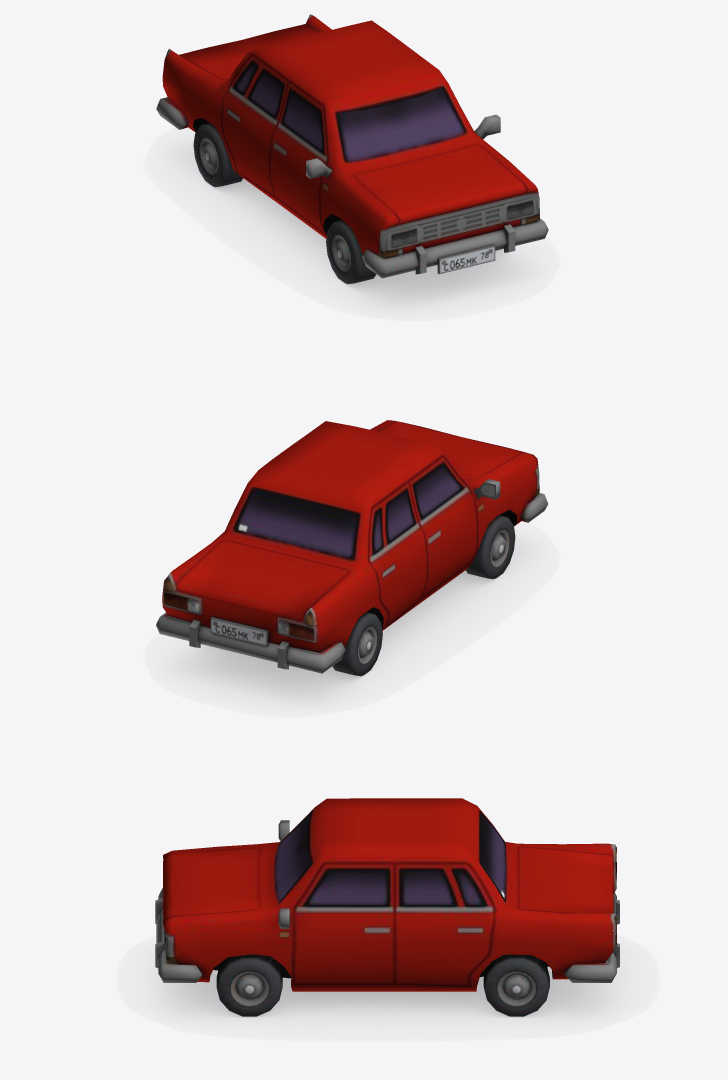
Rendered from moskvich.glb.
3 views of the same model, one above another, from view 1: azimuth 30°, elevation 25°; view 2: azimuth 150°, elevation 25°; view 3: azimuth 270°, elevation 25° (orthographic).
Bounding box in the file's own units: 2.64 × 1.09 × 4.5.
Materials: 2 (2 with a texture image).
